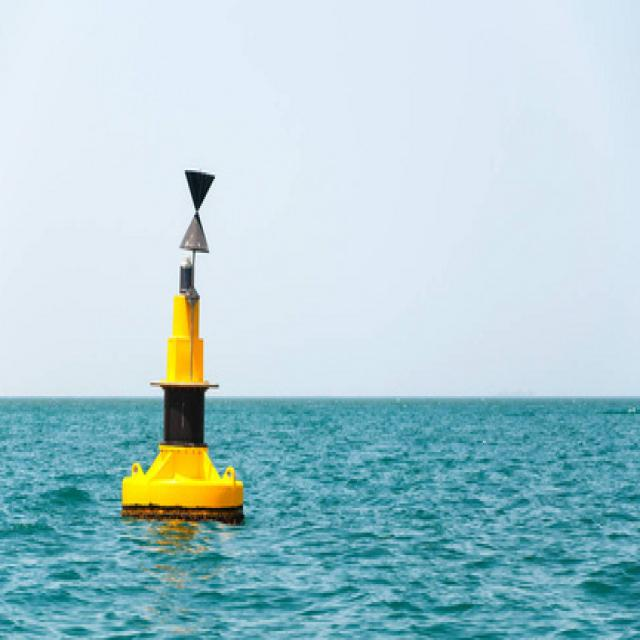buoy: (120, 164, 247, 518)
